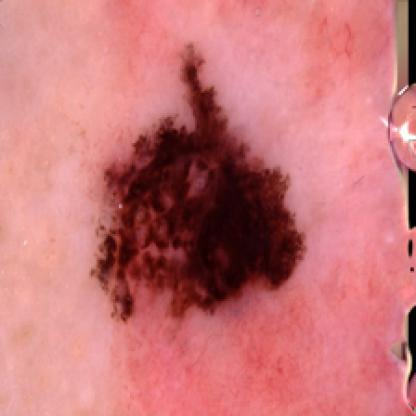malignant: (87, 56, 310, 308)
